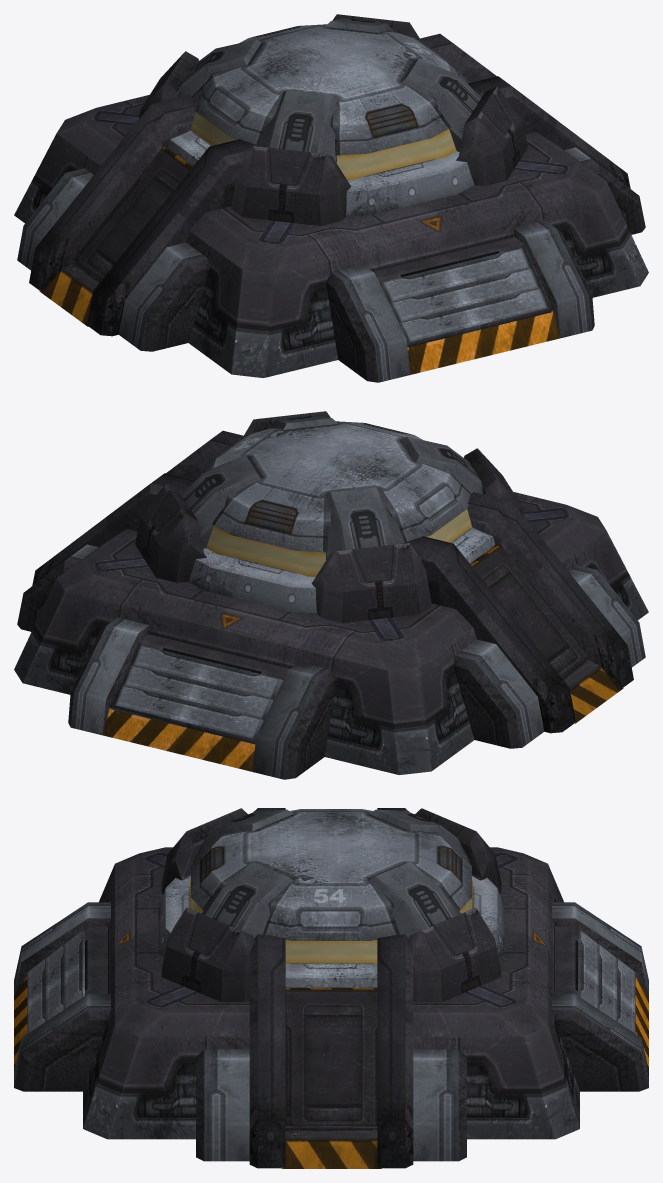
The model's file is bunker.fbx.
The picture shows the model from 3 angles, top to bottom: view 1: azimuth 30°, elevation 25°; view 2: azimuth 150°, elevation 25°; view 3: azimuth 270°, elevation 25°; orthographic projection. The views are drawn at different scales.
Parts seen in each view (by area): view 1: Geoset_1, Geoset_0; view 2: Geoset_1, Geoset_0; view 3: Geoset_1, Geoset_0.
Part boxes in pixels (bbox=[...]): Geoset_1: bbox=[14, 14, 648, 382]; Geoset_0: bbox=[168, 18, 481, 216]; Geoset_1: bbox=[14, 411, 648, 779]; Geoset_0: bbox=[181, 415, 494, 613]; Geoset_1: bbox=[14, 808, 648, 1168]; Geoset_0: bbox=[158, 809, 504, 987].
Size of the model in its own units: 2.56 by 0.865 by 2.55.
Materials: 1 (1 with a texture image).
